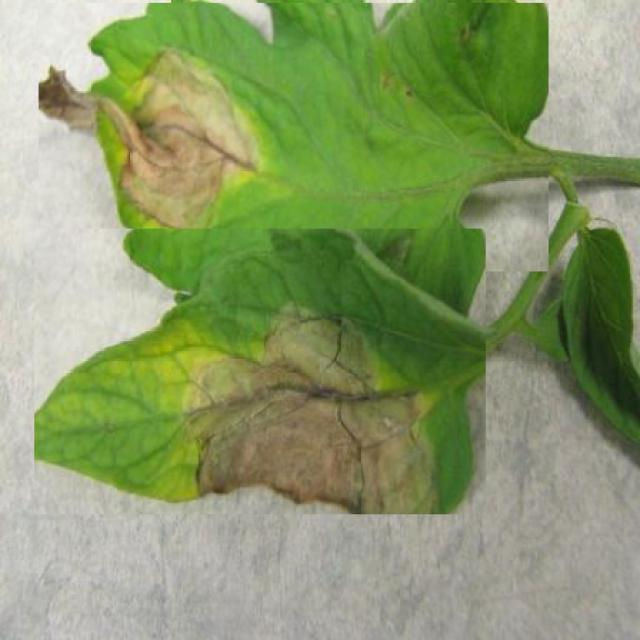Late Blight: (39, 3, 548, 271), (34, 229, 486, 515)
